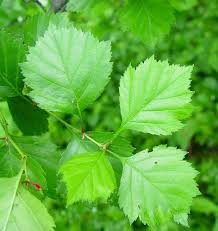healthy: (15, 36, 113, 118), (120, 147, 205, 227), (117, 61, 198, 143)
